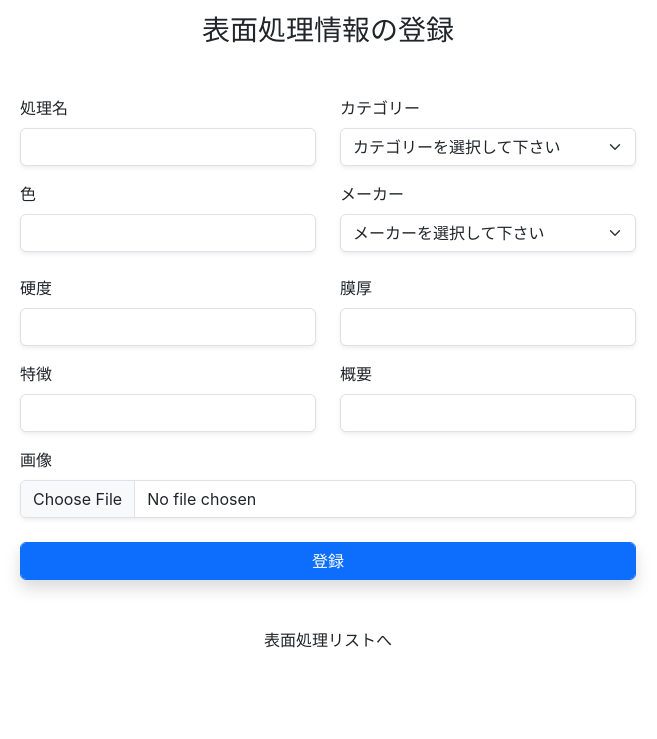
Test: SamplesNewView › 表面処理情報の新規登録 › 失敗した場合 › バリデーションエラーになること
The width and height of the screenshot is (657, 739).
Select "めっき" in the dropdown with id "sample-category" at point(488, 147), box x1=340 y1=128 x2=636 y2=166
Type "イエローブラウンシルバー" into the field with id "sample-color" at point(168, 233), box x1=20 y1=214 x2=316 y2=252
Select "東亜電化工業株式会社" in the dropdown with id "makers" at point(488, 233), box x1=340 y1=214 x2=636 y2=252
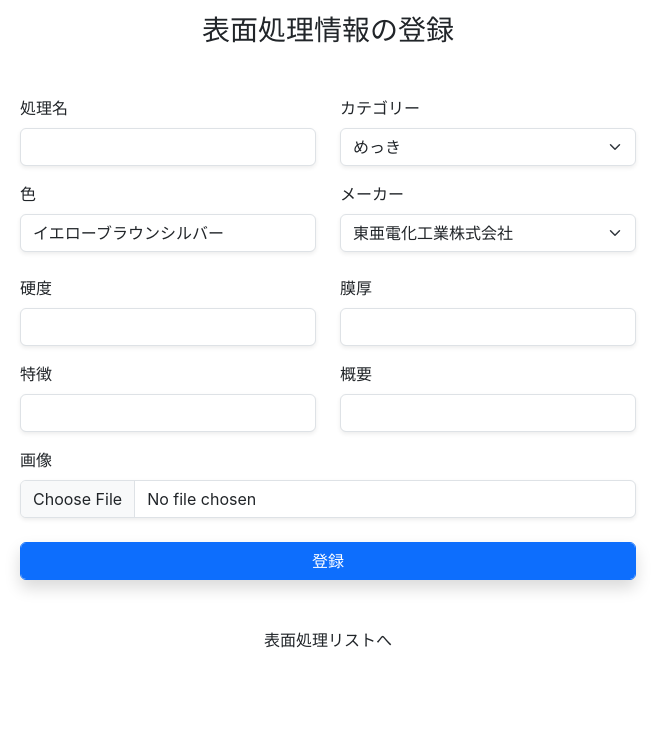
Type "析出状態の皮膜硬度でHV550～HV700、熱処理後の皮膜硬度はHV950程度" into the field with id "sample-hardness" at point(168, 327), box x1=20 y1=308 x2=316 y2=346
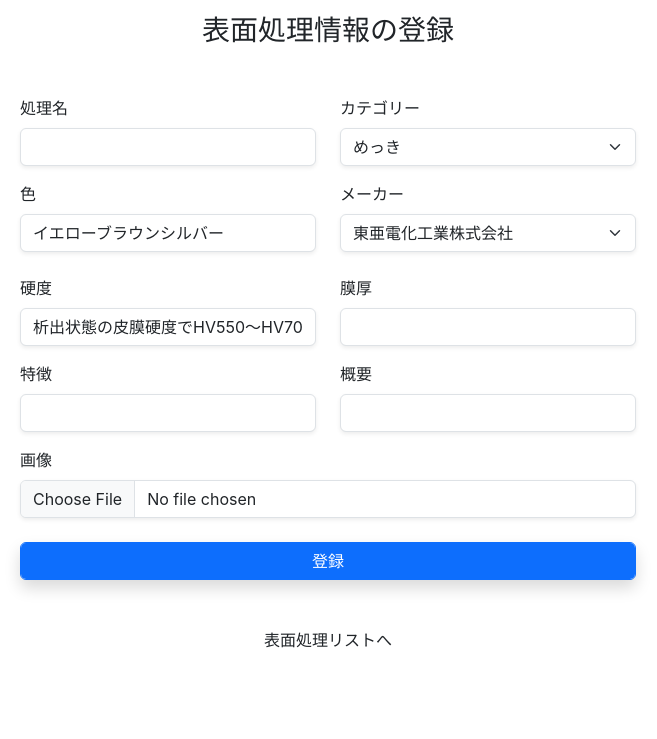
Type "5" into the number field with id "sample-film-thickness" at point(488, 327), box x1=340 y1=308 x2=636 y2=346
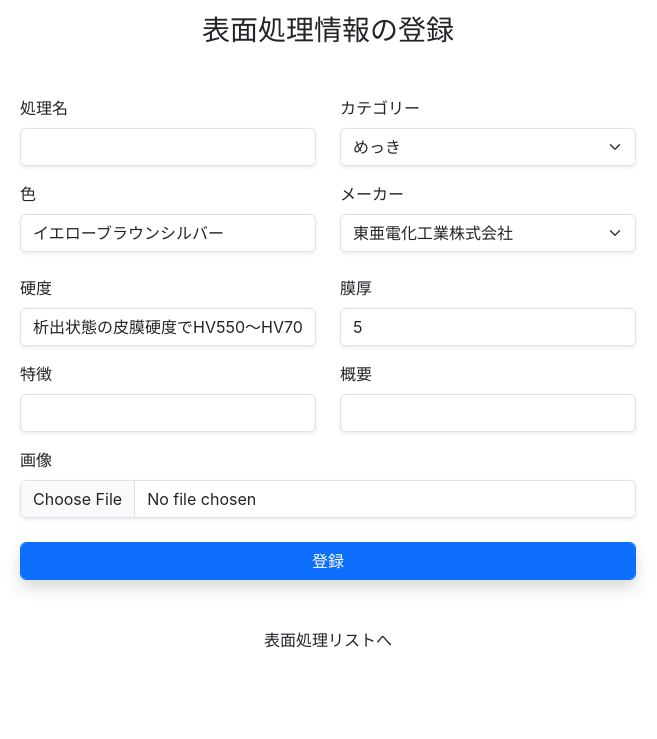
Type "耐食性・耐摩耗性・耐薬品性・耐熱性" into the field with id "sample-feature" at point(168, 413), box x1=20 y1=394 x2=316 y2=432
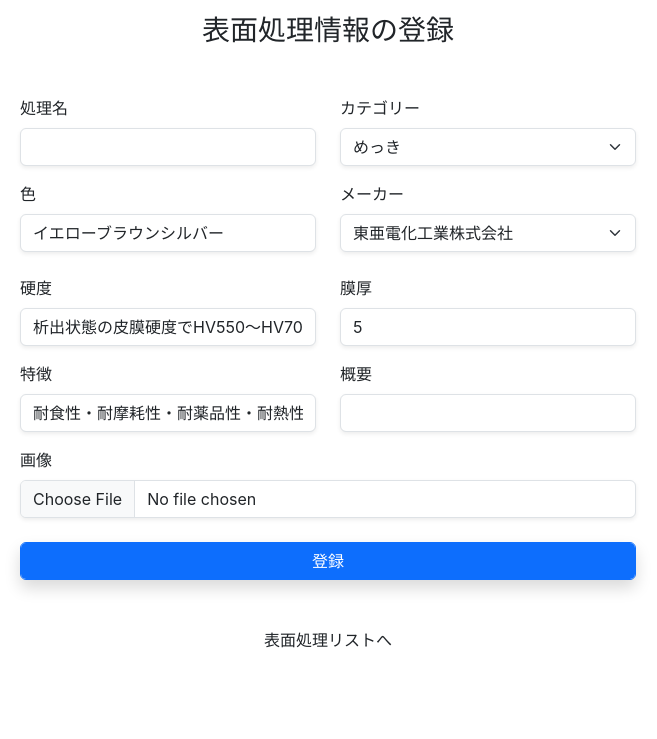
Type "電気を使わず化学反応で金属表面にニッケルを析出する技術です。" into the field with id "sample-summary" at point(488, 413), box x1=340 y1=394 x2=636 y2=432
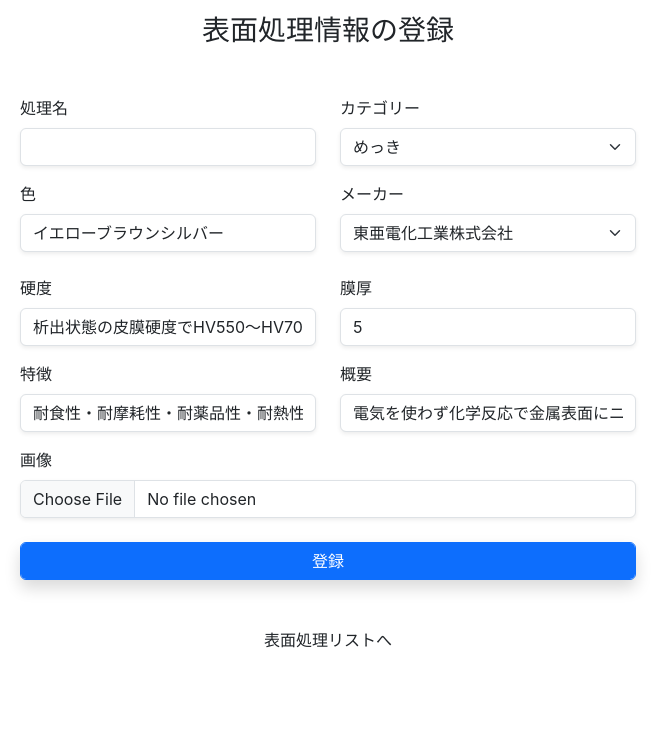
Submit the form
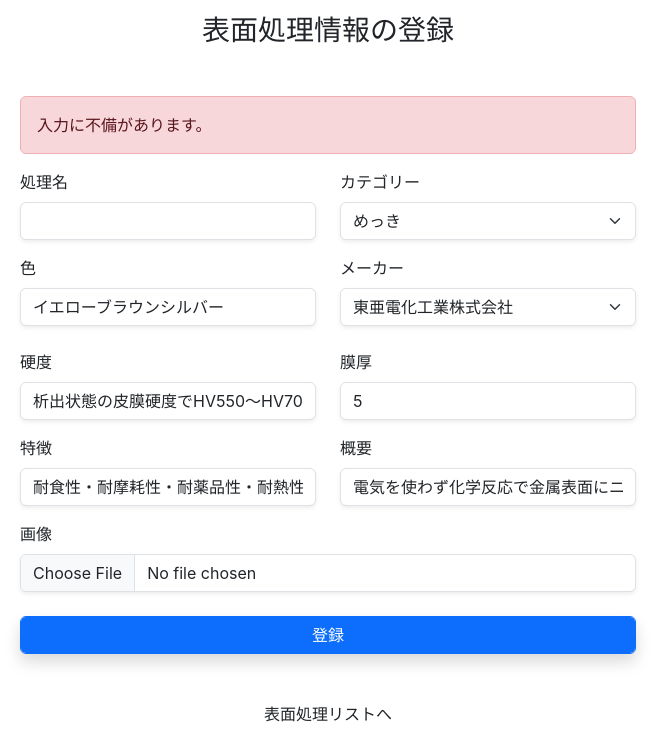
Check: the message with class "alert" reads "入力に不備があります。", box x1=37 y1=115 x2=211 y2=135
